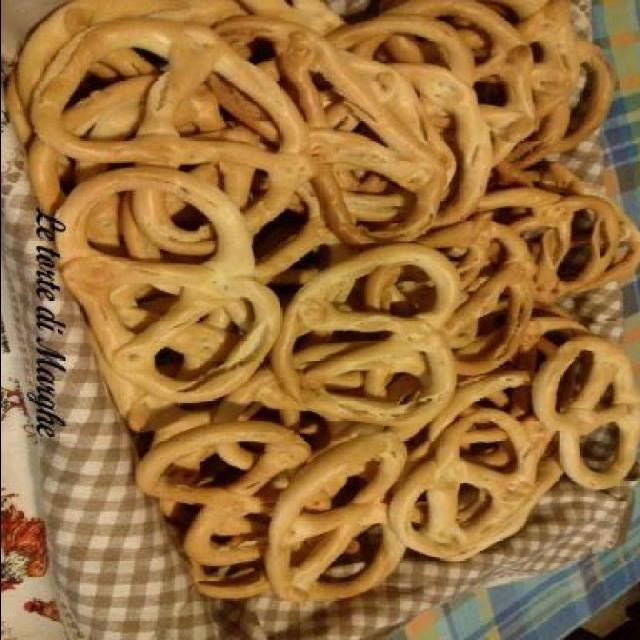Taralli: (49, 5, 633, 603)
